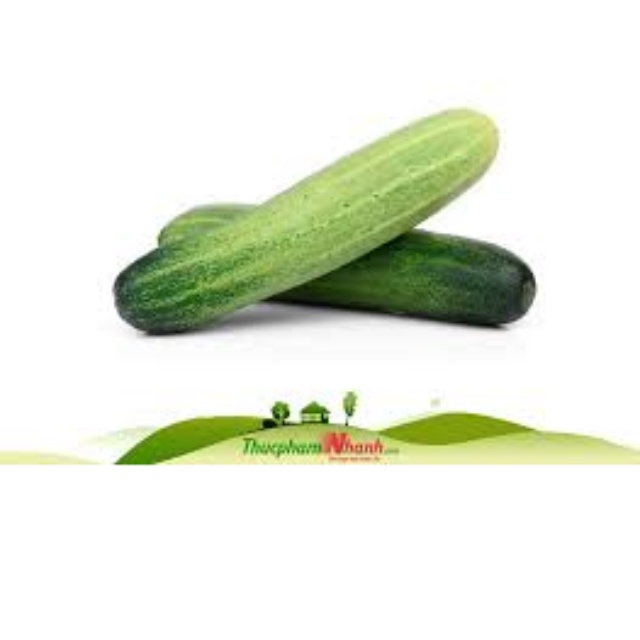dua_leo: (110, 107, 500, 363)
